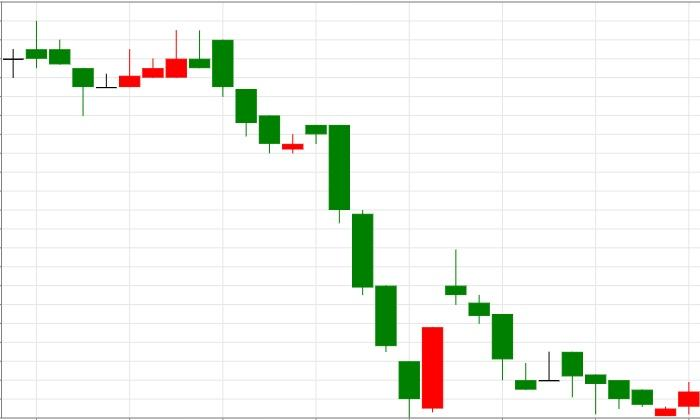bullish_engulfing_rise: (212, 39, 443, 417)
